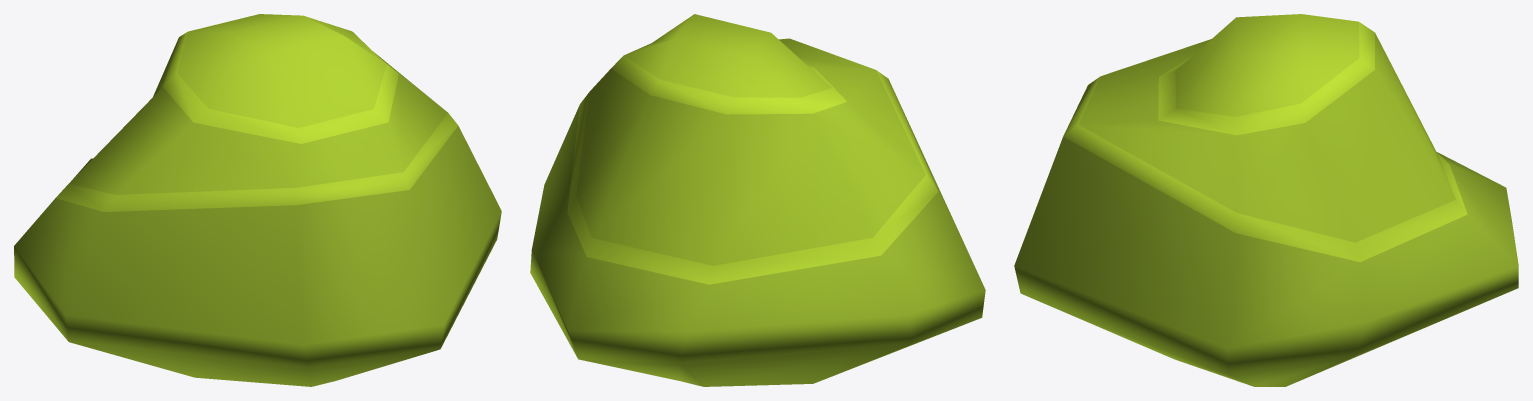
File: magic_ore_S.fbx
3 views of the same model, side by side, from view 1: azimuth 30°, elevation 25°; view 2: azimuth 150°, elevation 25°; view 3: azimuth 270°, elevation 25° (orthographic). The views are drawn at different scales.
Visible parts, largest first — view 1: magic_ore_S; view 2: magic_ore_S; view 3: magic_ore_S.
Part boxes in pixels (x1,y1,x2,y2): magic_ore_S: [14, 14, 501, 386]; magic_ore_S: [530, 14, 985, 386]; magic_ore_S: [1014, 14, 1518, 386].
Size of the model in its own units: 33.88 by 23.28 by 32.86.
Materials: 1 (1 with a texture image).
